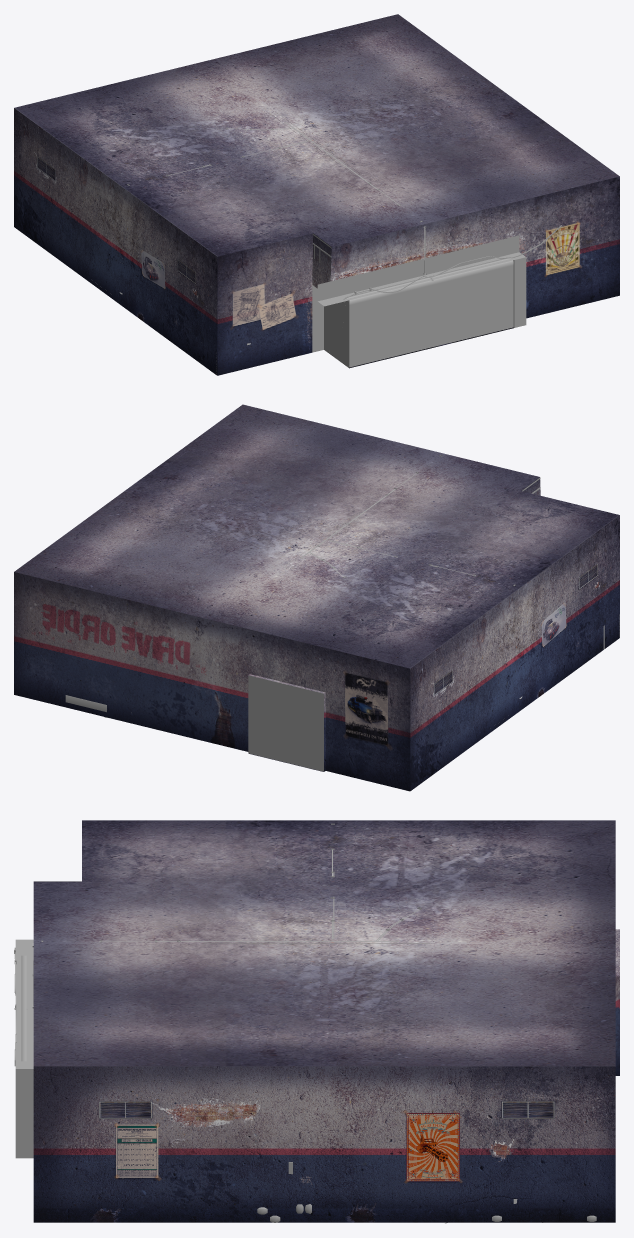
File: NEW_Garage.fbx
3 views of the same model, one above another, from view 1: azimuth 30°, elevation 25°; view 2: azimuth 150°, elevation 25°; view 3: azimuth 270°, elevation 25° (orthographic). The views are drawn at different scales.
Visible parts, largest first — view 1: Part_01, ParT_02, Tools; view 2: Part_01, ParT_02, Tools; view 3: Part_01, ParT_02, Tools.
Boxes of the visible parts, bbox=[...] form: Part_01: bbox=[14, 14, 619, 368]; ParT_02: bbox=[14, 108, 619, 375]; Tools: bbox=[119, 112, 561, 374]; Part_01: bbox=[14, 404, 619, 791]; ParT_02: bbox=[410, 477, 619, 790]; Tools: bbox=[248, 455, 619, 771]; Part_01: bbox=[33, 820, 619, 1075]; ParT_02: bbox=[33, 1066, 615, 1222]; Tools: bbox=[14, 823, 596, 1222].
Size of the model in its own units: 192 by 72.49 by 199.
